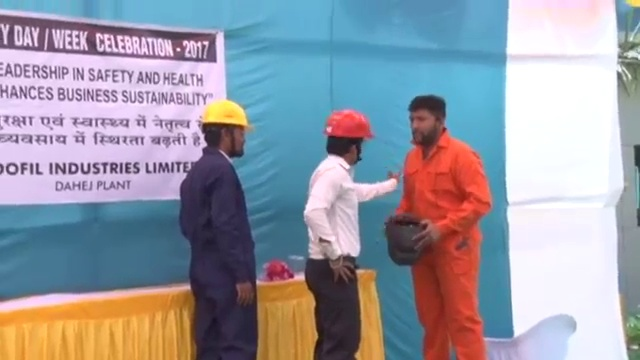helmet: (200, 98, 253, 131), (323, 107, 375, 140)
helmet_off: (407, 93, 446, 144)
helmet_on: (199, 97, 254, 160), (322, 105, 376, 167)
person: (395, 93, 494, 360), (304, 107, 400, 360), (175, 100, 260, 360)
